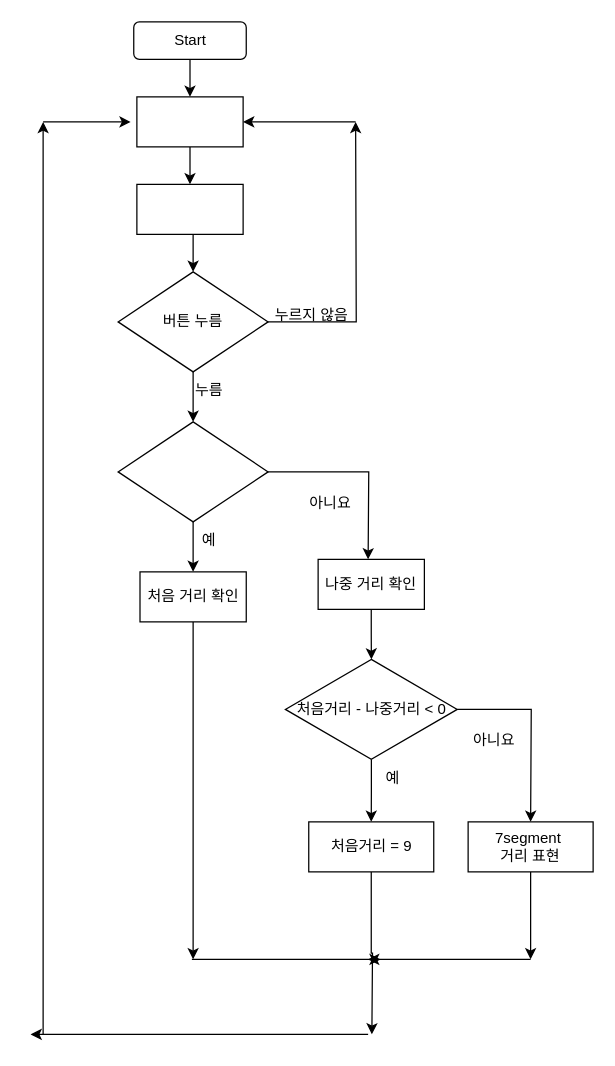
Some shapes in this 615 by 1066 pixel diagram are drawn without their labels. The centre of each missing label's shape, as x and y in pixels:
"Count == True?" belongs at point (192, 471).
"거리측정" belongs at point (189, 121).
"색 표현" belongs at point (189, 208).
